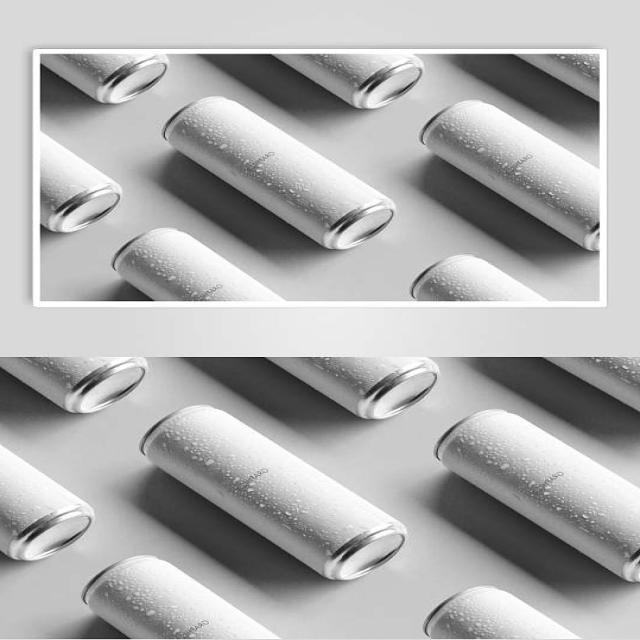metal: (139, 405, 406, 579), (162, 96, 395, 249), (435, 409, 640, 582), (420, 100, 600, 251), (83, 555, 278, 640), (111, 228, 282, 301), (269, 358, 439, 418), (39, 132, 122, 232), (410, 254, 546, 301), (41, 54, 169, 103)
